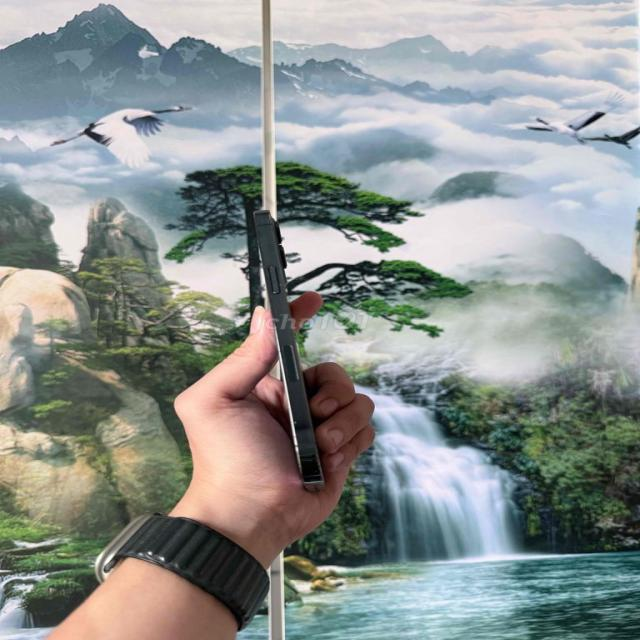gen_12_13: (236, 205, 342, 490)
